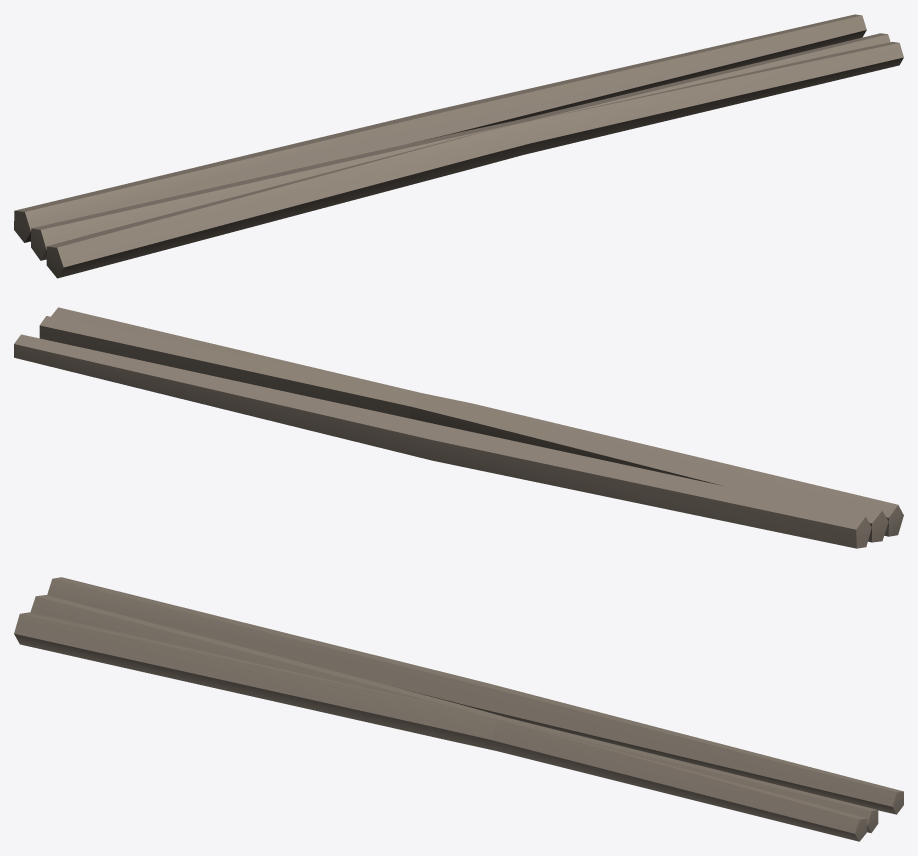
Rendered from palo.glb.
3 renders of one model, top to bottom at view 1: azimuth 30°, elevation 25°; view 2: azimuth 150°, elevation 25°; view 3: azimuth 330°, elevation 25°, orthographic.
Visible parts, largest first — view 1: palo; view 2: palo; view 3: palo.
Boxes of the visible parts, <box> form: palo: <box>14,14,903,278</box>; palo: <box>14,307,903,548</box>; palo: <box>14,577,903,841</box>.
Bounding box in the file's own units: 0.6006 × 0.0289 × 0.0674.
